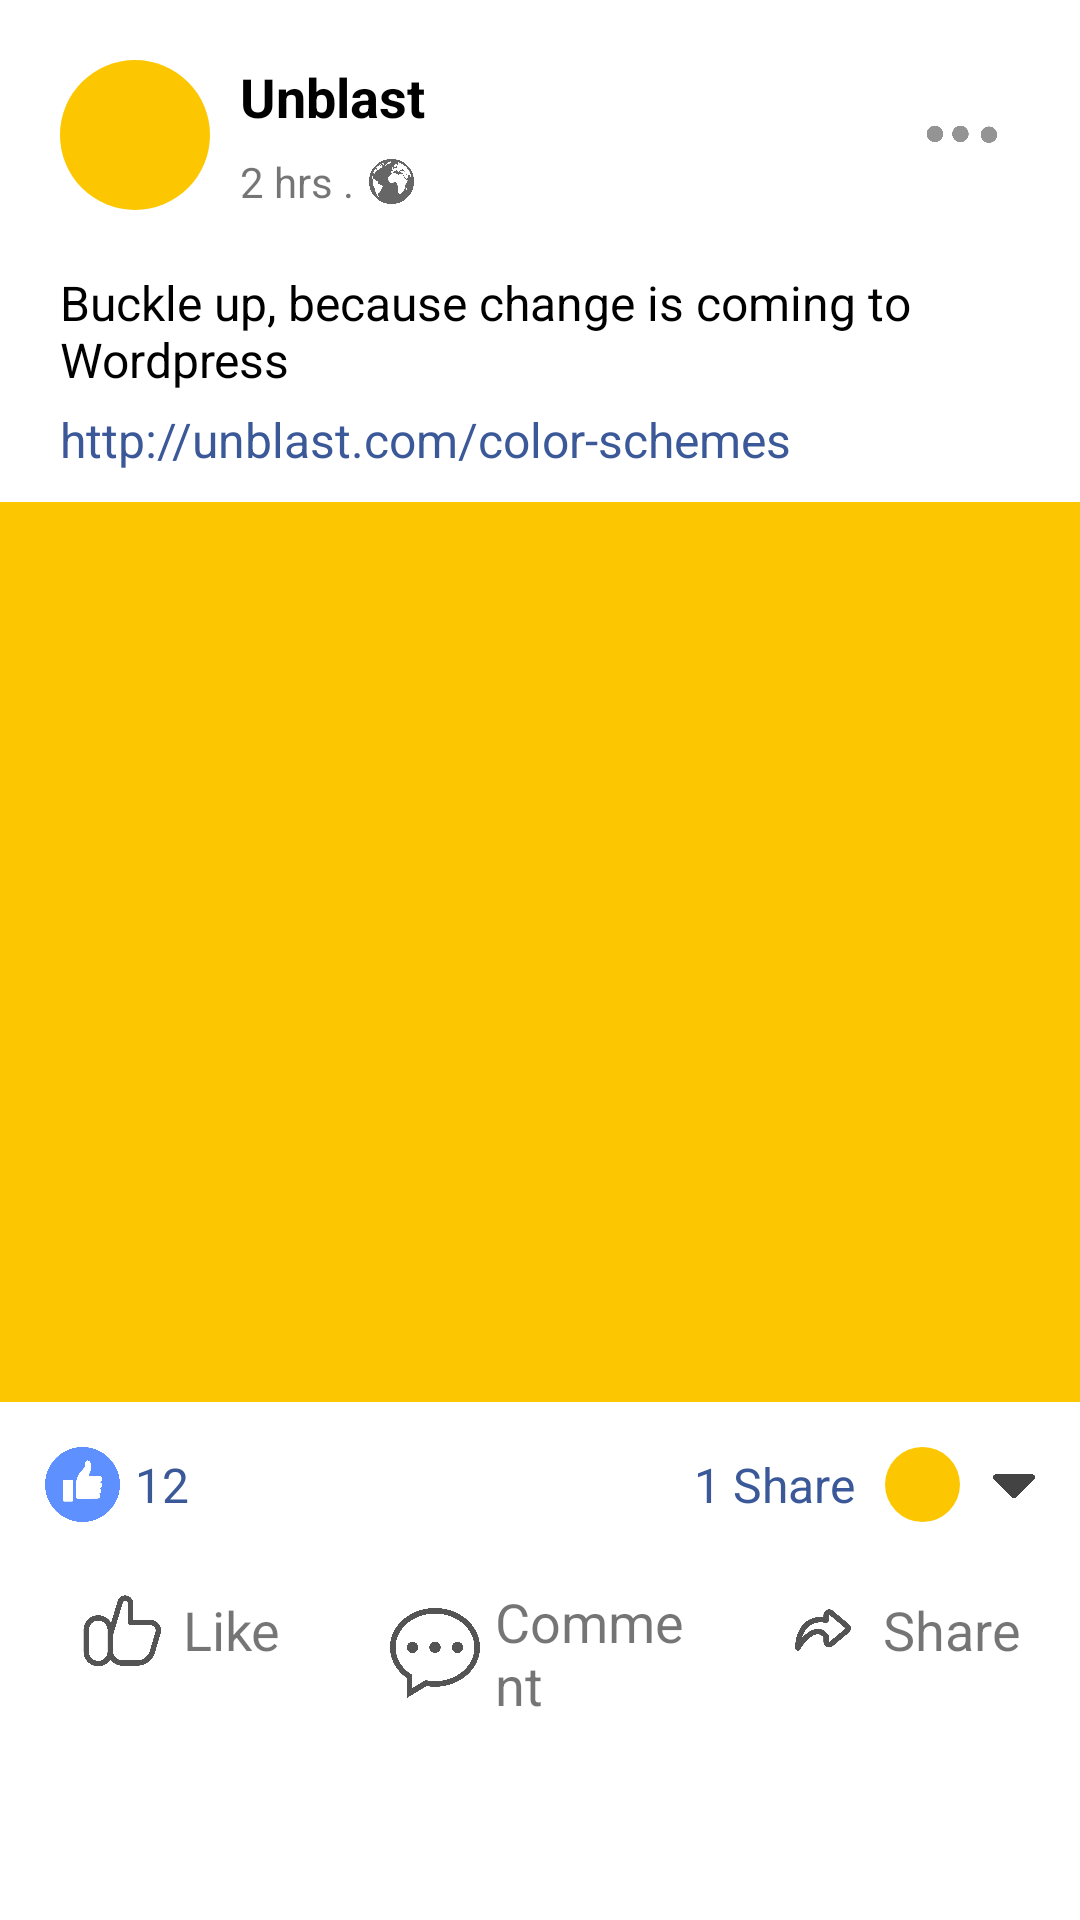

Point at icon controls on the screen. Image size 1080w x 1920h, points as (x,y).
circle: (922,1484)
Dots List: (962,134)
triangle: (1014,1486)
world map icon: (391,181)
